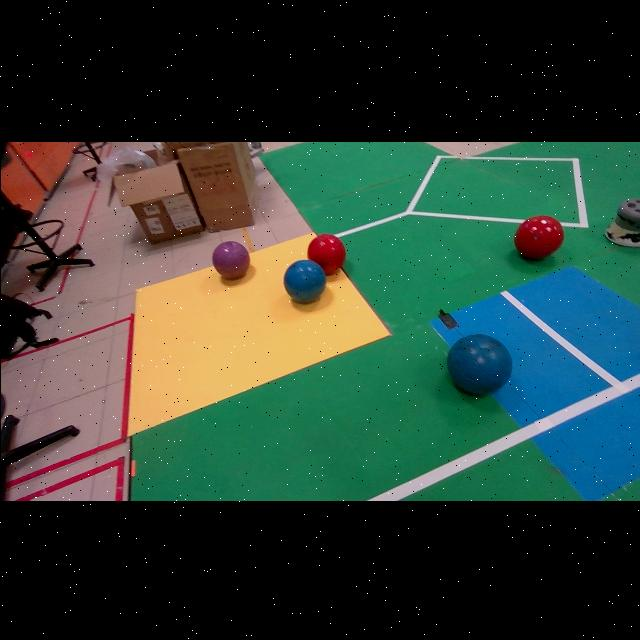B: (446, 333, 511, 393), (284, 259, 325, 300)
P: (211, 239, 248, 277)
R: (513, 214, 563, 258), (306, 231, 345, 273)
